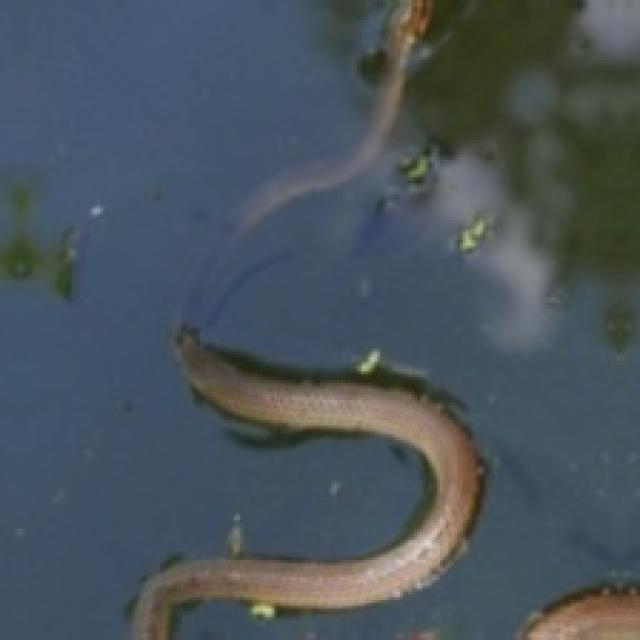gervais worm snake: (131, 0, 483, 637), (131, 326, 483, 637), (522, 586, 640, 639)
